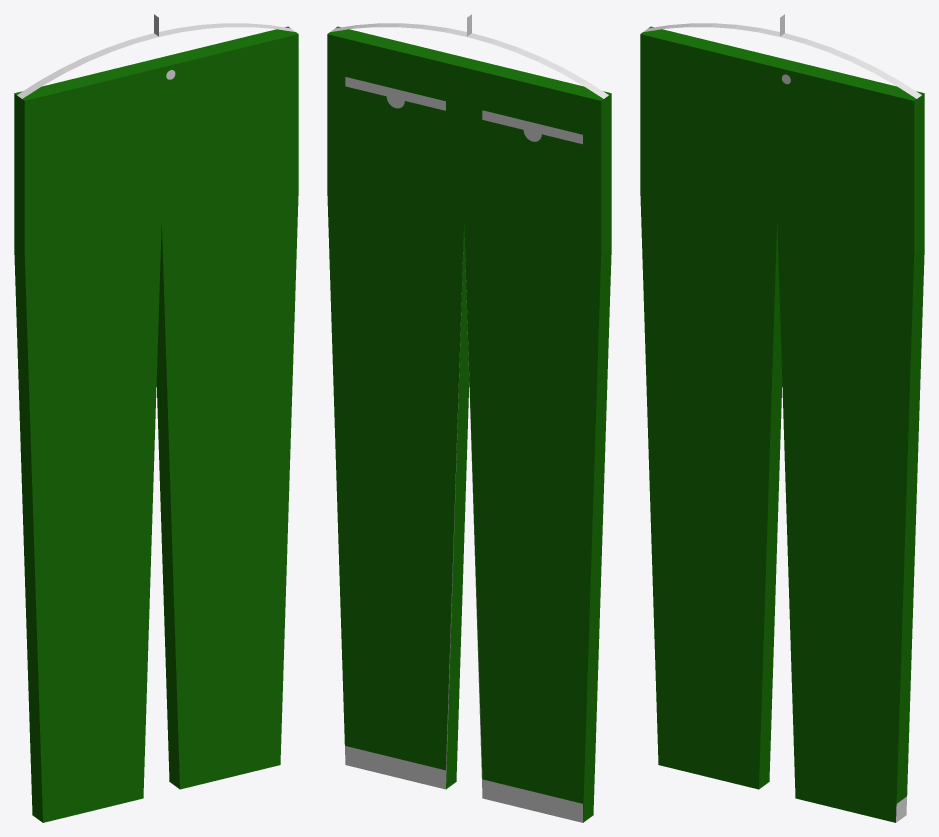
The model's file is pants-green.dae.
3 renders of one model, left to right at view 1: azimuth 30°, elevation 25°; view 2: azimuth 150°, elevation 25°; view 3: azimuth 330°, elevation 25°, orthographic.
Parts seen in each view (by area): view 1: group_0_002, group_0_016, group_0_005, group_0_001; view 2: group_0_006, group_0_005, group_0_002, group_0_016, group_0_019, group_0_015, group_0_001; view 3: group_0_002, group_0_016, group_0_005, group_0_006, group_0_013, group_0_001.
Part boxes in pixels (x1,y1,x2,y2): group_0_002: (14,87,161,822); group_0_016: (156,53,298,789); group_0_005: (14,26,298,219); group_0_001: (17,23,295,98); group_0_006: (327,53,601,816); group_0_005: (327,26,611,119); group_0_002: (583,113,611,822); group_0_016: (446,222,469,789); group_0_019: (482,779,582,822); group_0_015: (345,746,445,789); group_0_001: (330,23,608,98); group_0_002: (640,53,777,789); group_0_016: (777,91,914,822); group_0_005: (640,26,924,219); group_0_006: (896,113,924,803); group_0_013: (759,222,782,789); group_0_001: (643,23,921,98).
Size of the model in its own units: 0.381 by 0.0254 by 1.03.
